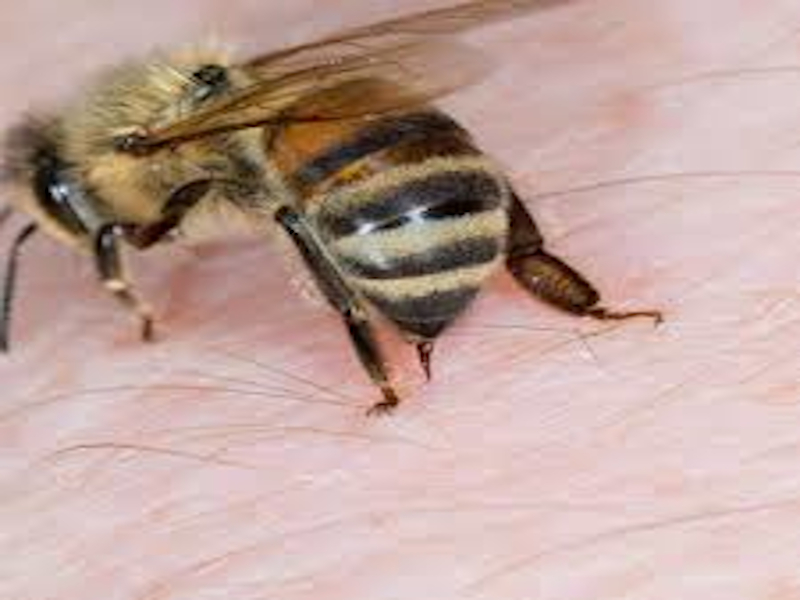abeja: (1, 21, 688, 442)
